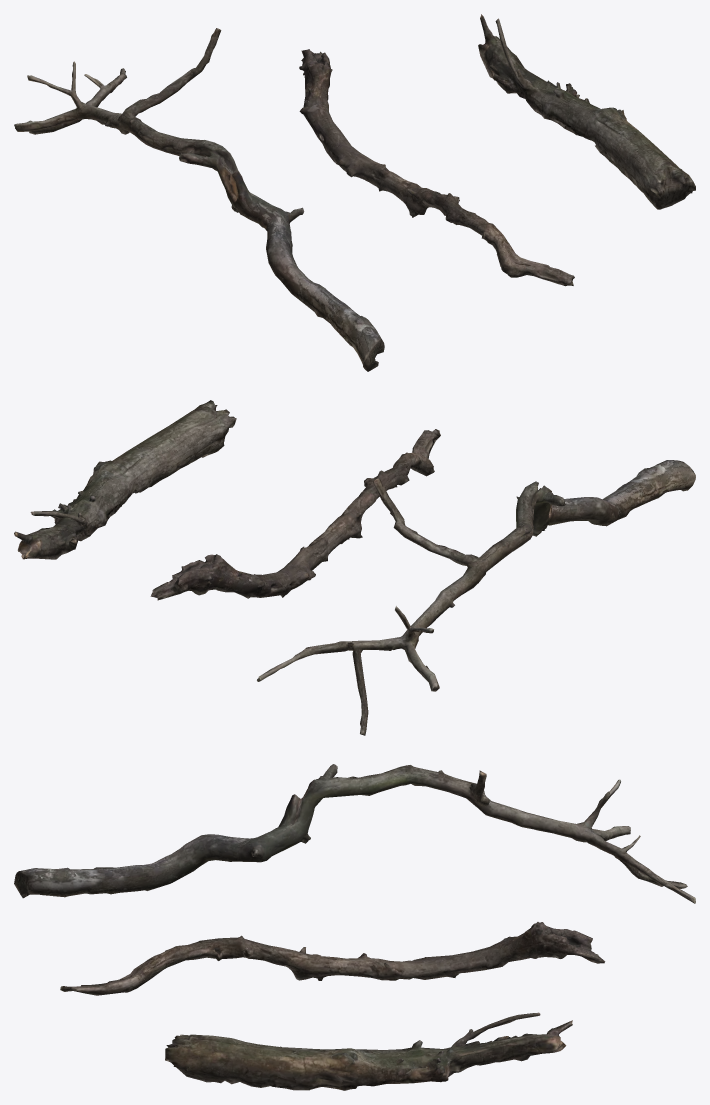
File: dry_branches_medium_01.glb
The picture shows the model from 3 angles, top to bottom: view 1: azimuth 30°, elevation 25°; view 2: azimuth 150°, elevation 25°; view 3: azimuth 270°, elevation 25°; orthographic projection. The views are drawn at different scales.
Visible parts, largest first — view 1: dry_branches_medium_01_c; view 2: dry_branches_medium_01_c; view 3: dry_branches_medium_01_c.
Part boxes in pixels (left/top/right/bottom): dry_branches_medium_01_c: left=14, top=14, right=695, bottom=371; dry_branches_medium_01_c: left=14, top=400, right=695, bottom=735; dry_branches_medium_01_c: left=14, top=764, right=695, bottom=1090.
Bounding box in the file's own units: 1.06 × 0.341 × 1.3.
1 material, 1 textured.
